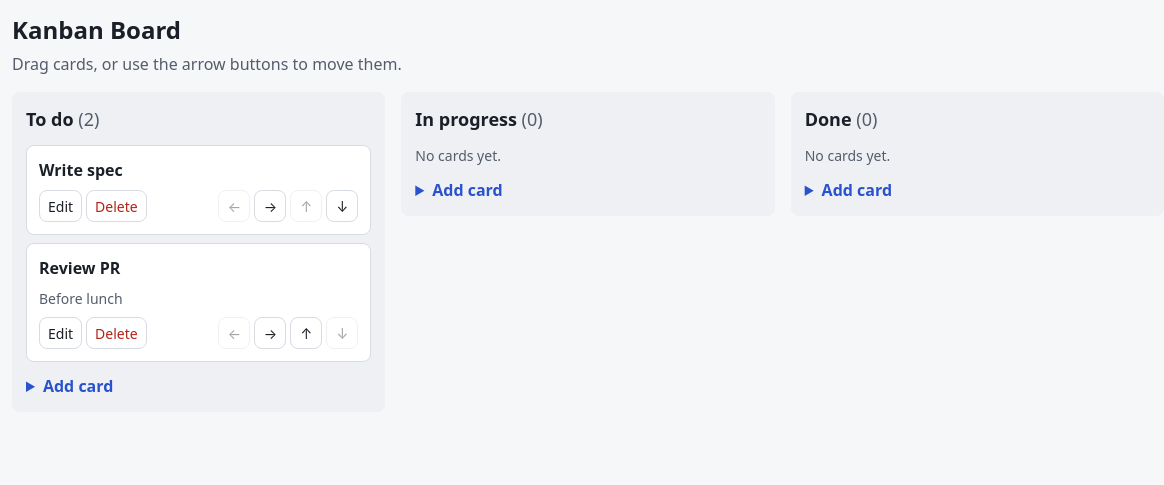
Test: KanbanPage › undoes a delete, restoring the card to its original position
The width and height of the screenshot is (1164, 485).
Step 1. Click the button named "Delete \"Write spec\"" → click(116, 206), box [86,190,147,222]
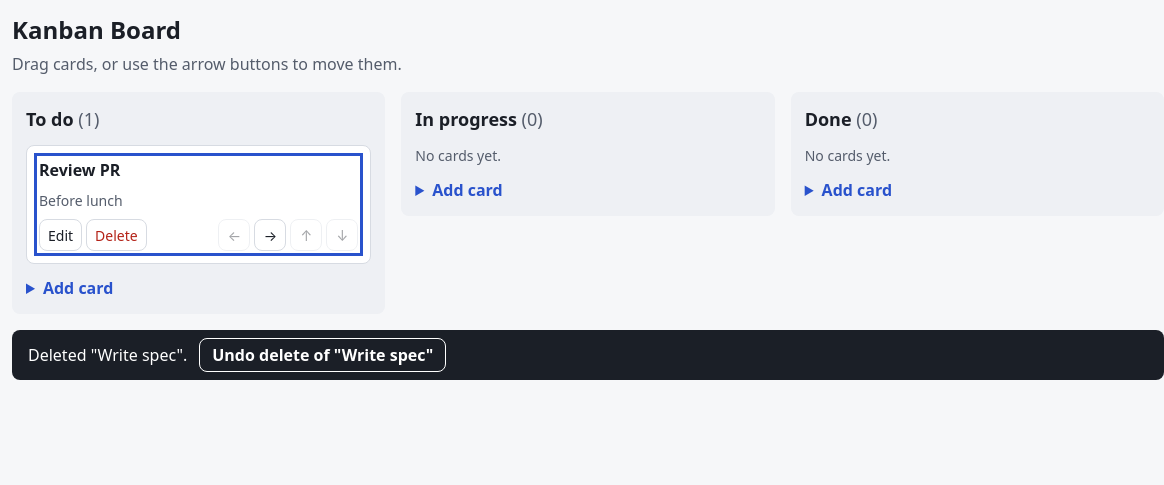
Check: the heading "To do (1)" is shown, box [26,107,99,131]
Step 2. Click the button "Undo delete of \"Write spec\"" → click(323, 355), box [199,338,446,372]
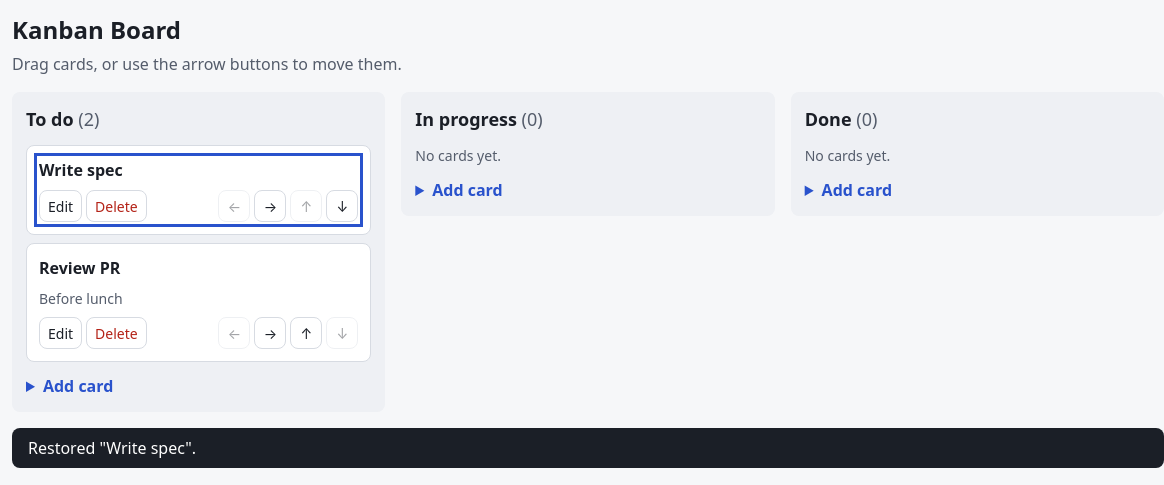
Check: the headings read "Write spec", "Review PR", in this order, box [39,159,123,181]; [39,257,120,279]
Check: the button "Undo delete of \"Write spec\"" is gone
